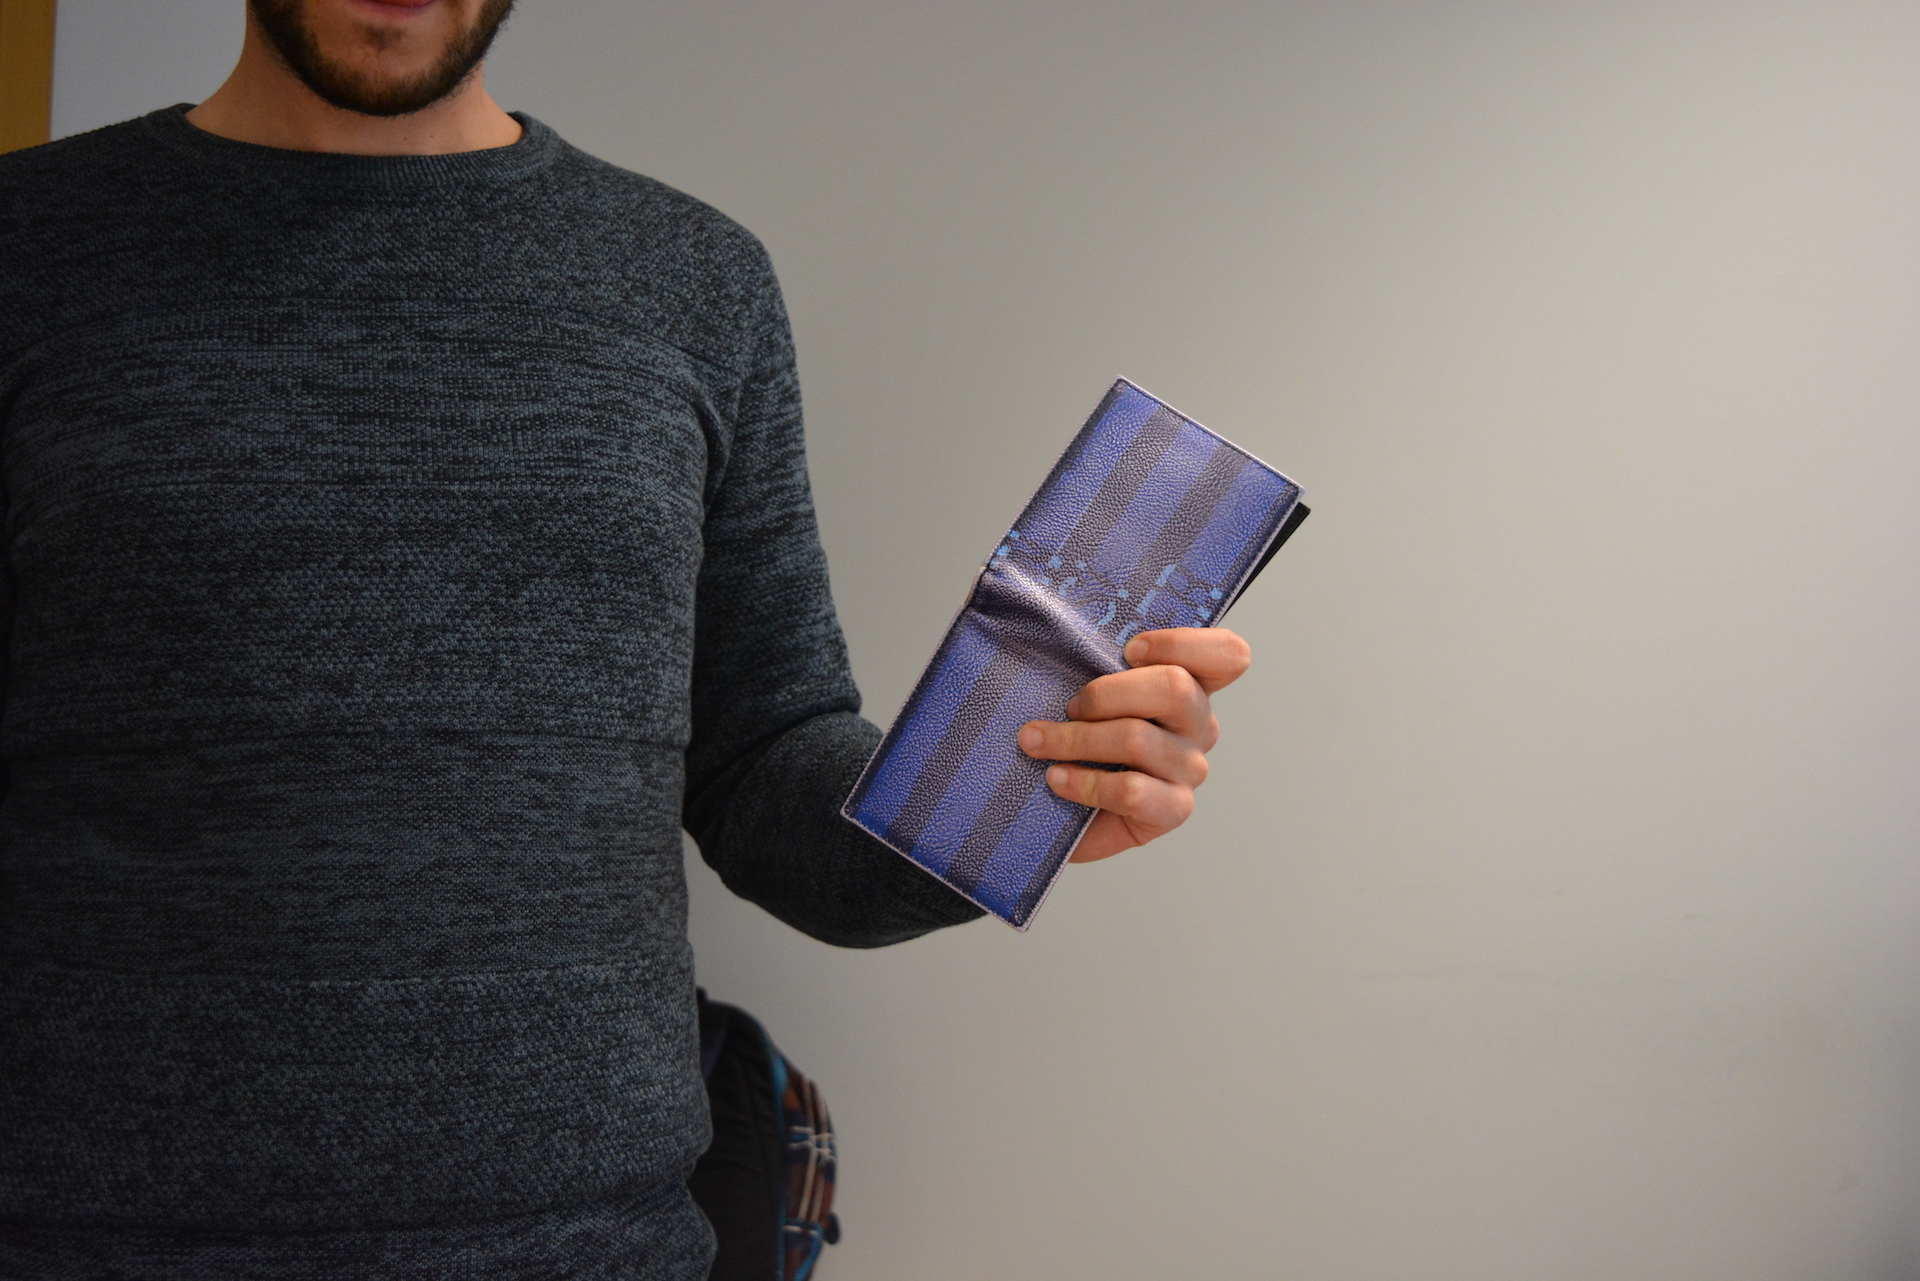monedero: (836, 367, 1317, 936)
